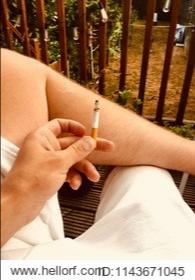Cigarette: (92, 98, 100, 144)
